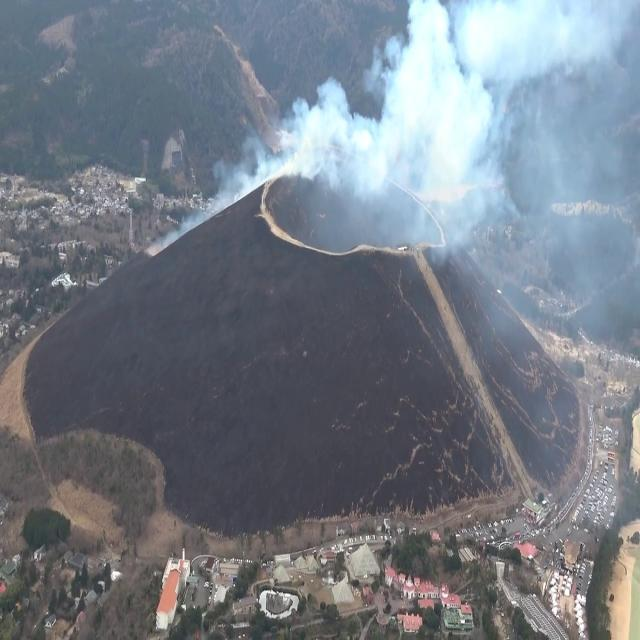Smoke: (230, 0, 588, 242)
